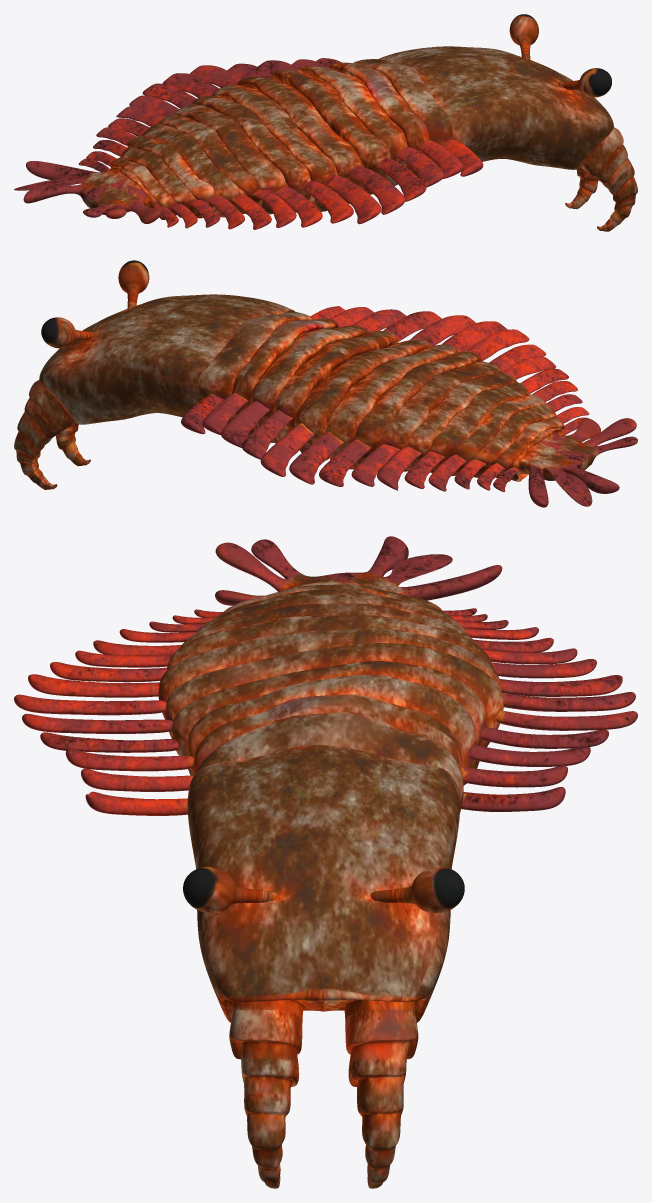
Rendered from anomalocaris_3d_model-compressed.glb.
3 views of the same model, one above another, from view 1: azimuth 30°, elevation 25°; view 2: azimuth 150°, elevation 25°; view 3: azimuth 270°, elevation 25° (orthographic). The views are drawn at different scales.
Parts seen in each view (by area): view 1: Plane003; view 2: Plane003; view 3: Plane003.
Part boxes in pixels (left/top/right/bottom): Plane003: left=14, top=14, right=637, bottom=231; Plane003: left=14, top=260, right=637, bottom=507; Plane003: left=14, top=536, right=637, bottom=1188.
Bounding box in the file's own units: 1.27 × 0.42 × 0.7464.
Materials: 1 (1 with a texture image).
